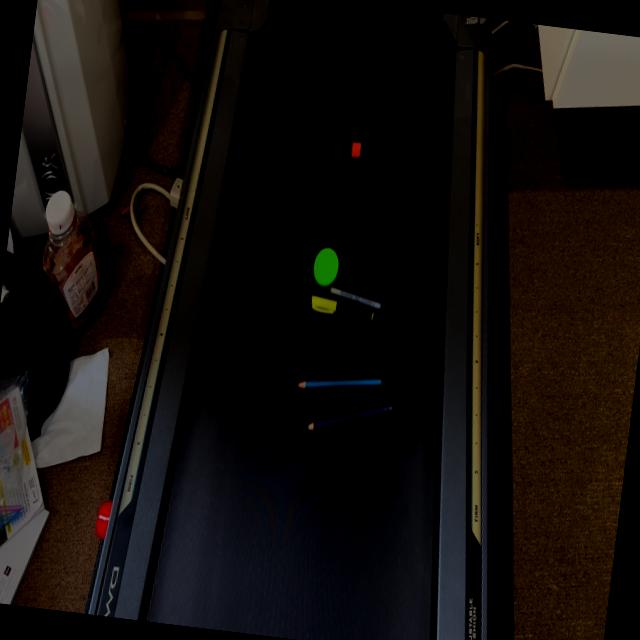Trash: (284, 352, 411, 457), (302, 234, 414, 326), (349, 130, 366, 168)
